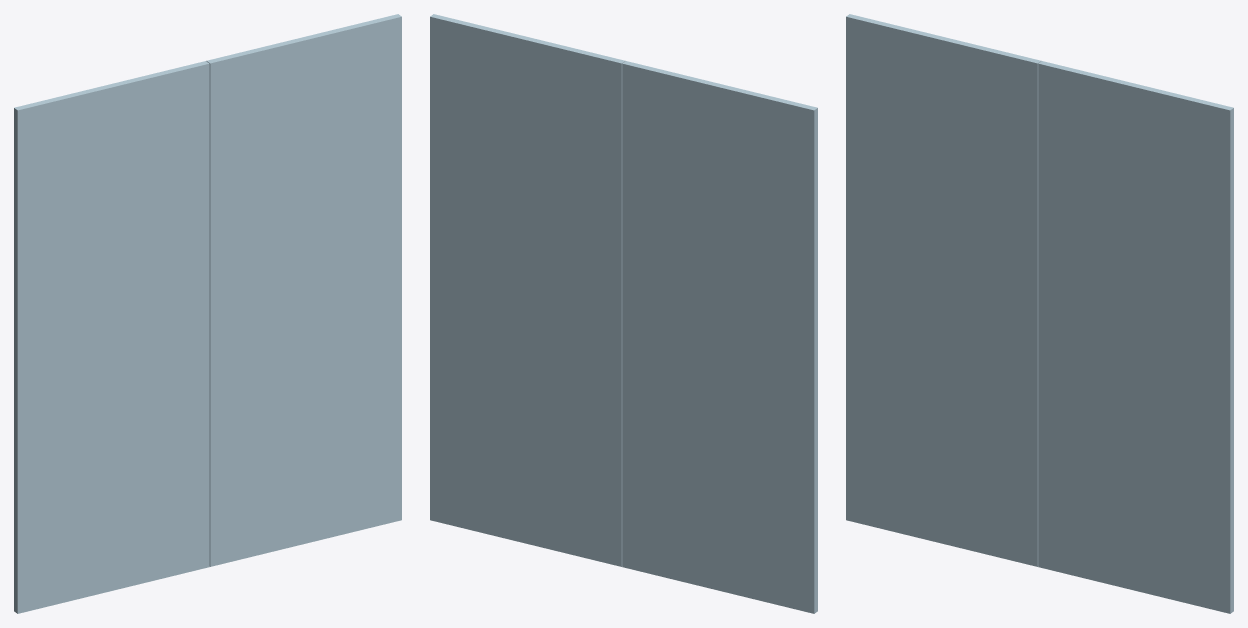
The model's file is cabinet_doors_1.glb.
3 renders of one model, left to right at view 1: azimuth 30°, elevation 25°; view 2: azimuth 150°, elevation 25°; view 3: azimuth 330°, elevation 25°, orthographic.
Visible parts, largest first — view 1: cabinet_door_left, cabinet_door_right; view 2: cabinet_door_left, cabinet_door_right; view 3: cabinet_door_right, cabinet_door_left.
Boxes of the visible parts, x1,y1,x2,y2 form: cabinet_door_left: (14,61,209,613); cabinet_door_right: (206,14,401,566); cabinet_door_left: (622,61,817,613); cabinet_door_right: (430,14,625,566); cabinet_door_right: (1038,61,1233,613); cabinet_door_left: (846,14,1041,566).
Size of the model in its own units: 1.2 by 1.5 by 0.02.
